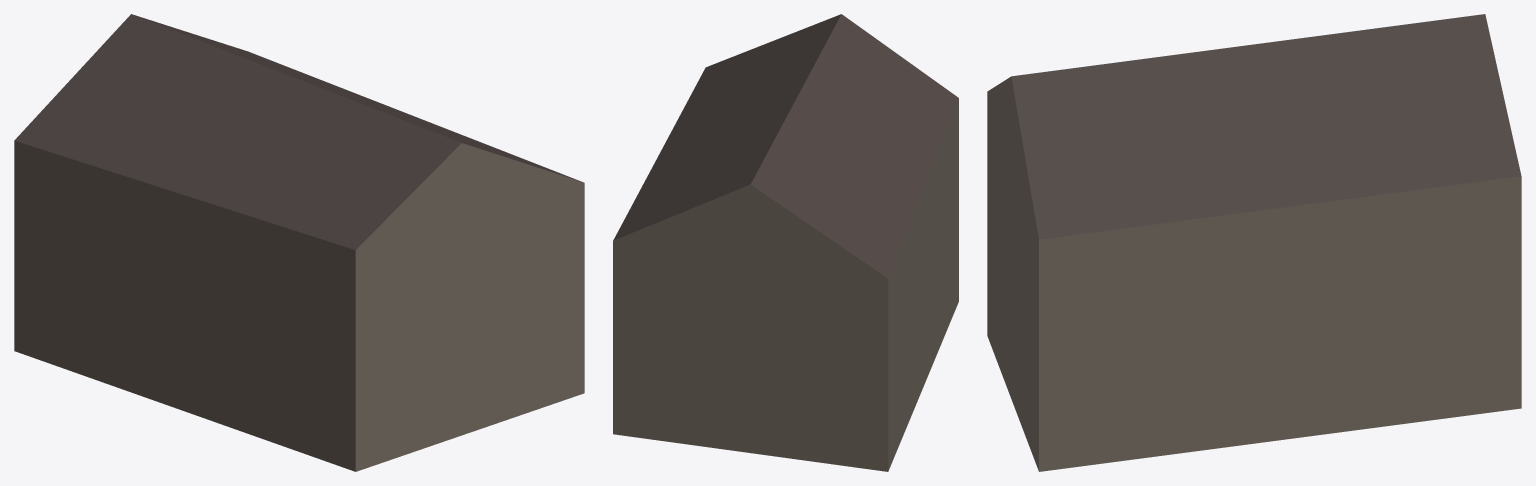
The picture shows the model from 3 angles, left to right: view 1: azimuth 30°, elevation 25°; view 2: azimuth 150°, elevation 25°; view 3: azimuth 270°, elevation 25°; orthographic projection. The views are drawn at different scales.
Visible parts, largest first — view 1: HP-w1515071148; view 2: HP-w1515071148; view 3: HP-w1515071148.
Boxes of the visible parts, left/top/right/bottom form: HP-w1515071148: left=14, top=14, right=584, bottom=471; HP-w1515071148: left=613, top=14, right=958, bottom=471; HP-w1515071148: left=987, top=14, right=1521, bottom=471.
Size of the model in its own units: 11.47 by 8.34 by 12.51.
